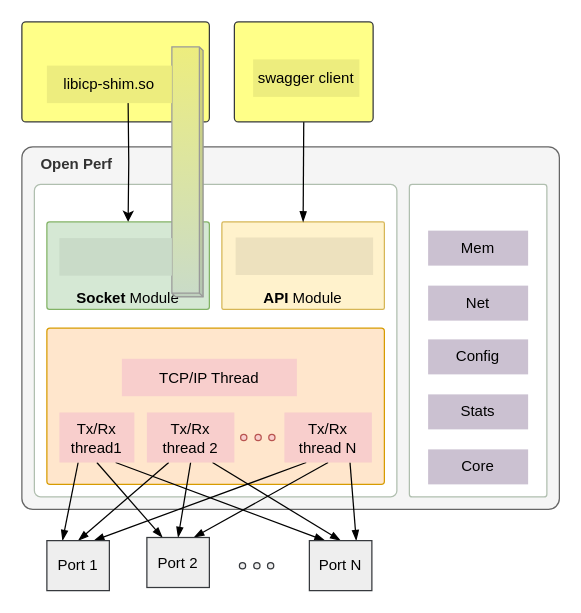
Image size: 581x613. Some labels were removed from this diagram. The shapes that lost their labels are listed below. From the top down, each one's box as (x1, y1, x2, y2) in pixels, then its label:
(21, 21, 209, 122): Socket Application
(233, 21, 373, 122): HTTP Client
(171, 46, 203, 297): Shared Memory
(59, 238, 171, 275): Unix Socket
(235, 237, 372, 274): RestAPI thread
(33, 183, 397, 497): Modules
(408, 183, 547, 497): Framework
(46, 327, 384, 484): PacketIO Module
